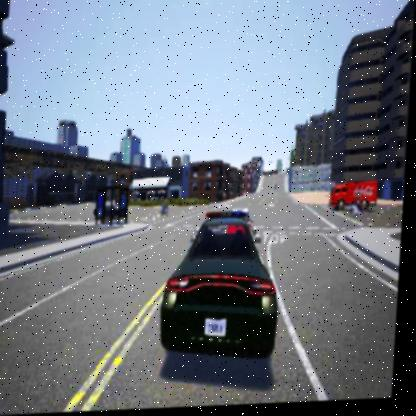bike: (351, 194, 375, 219), (161, 201, 173, 217)
vehicle: (162, 208, 286, 364), (330, 183, 380, 220)
